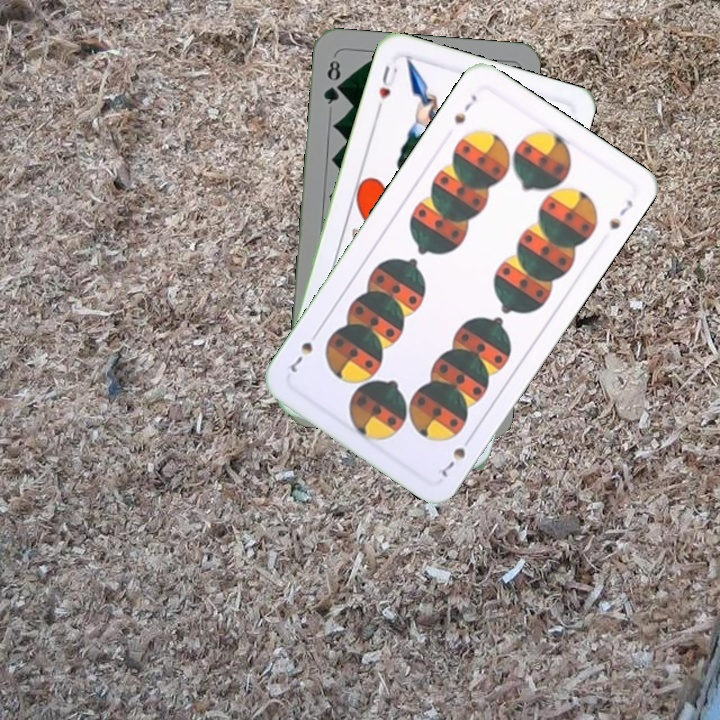G8: (319, 53, 344, 107)
HU: (373, 60, 401, 114)
S7: (433, 430, 476, 481), (450, 90, 480, 127)
